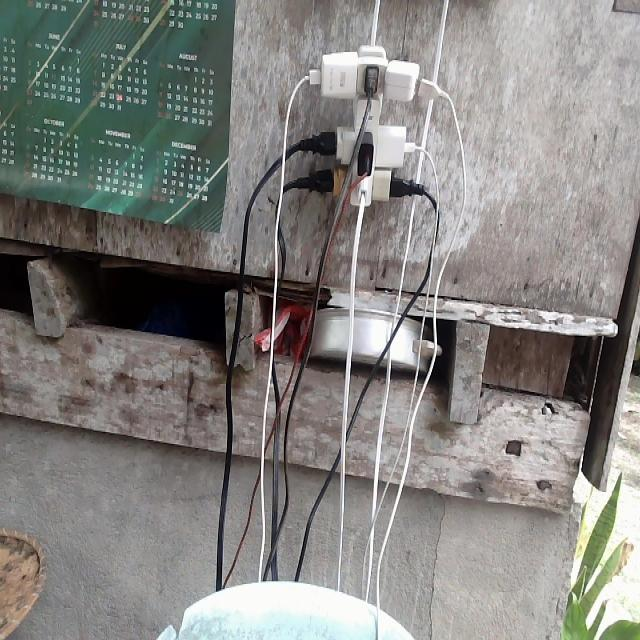-: (304, 47, 428, 205)
